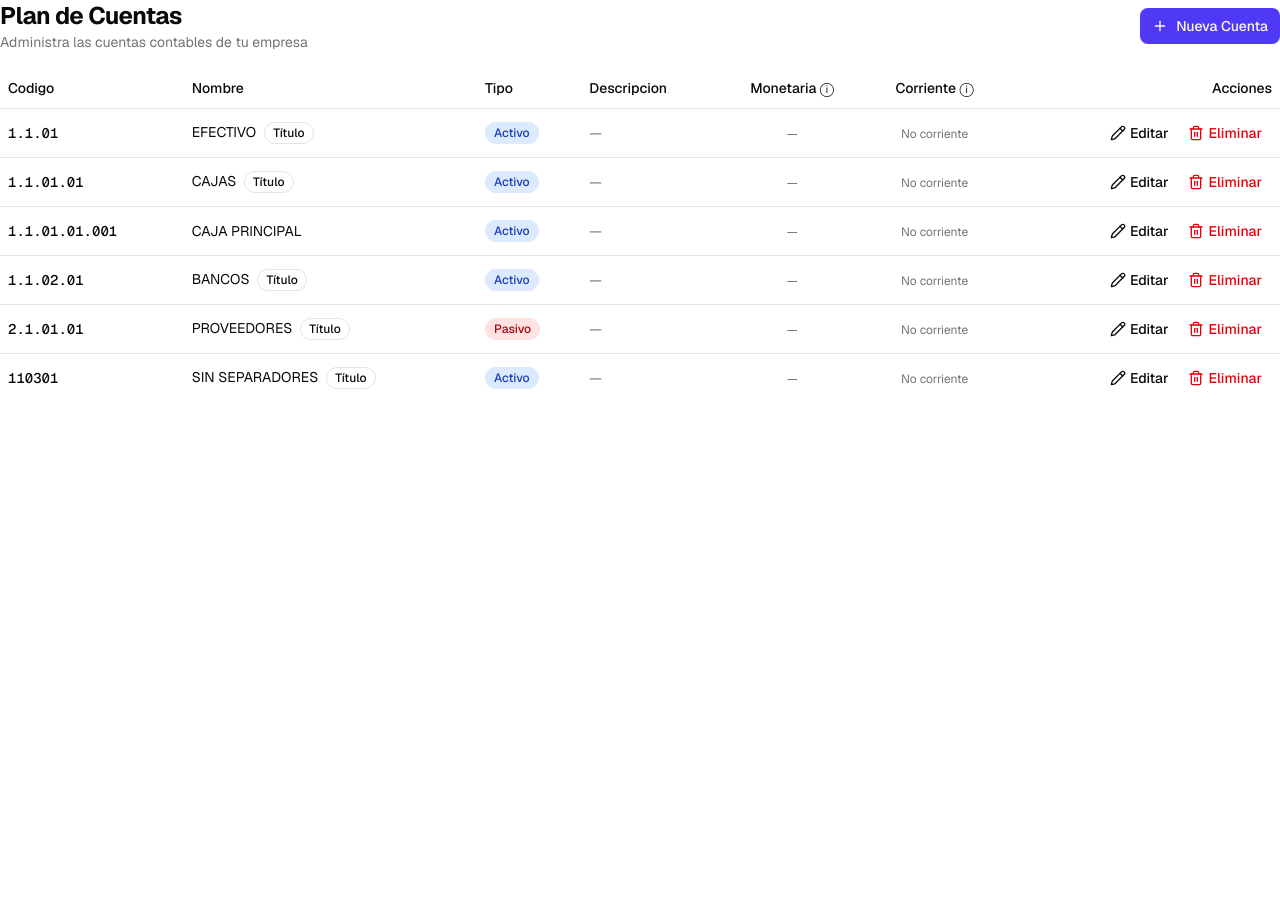
it: AccountsTable — Nueva cuenta con título padre (SPEC-008 CA-UI) › (a) ofrece solo los títulos de 6 dígitos del tipo elegido, ordenados y como «código — nombre»
The width and height of the screenshot is (1280, 900).
Click the button "Nueva Cuenta" at (1210, 26), box [1140, 8, 1279, 44]
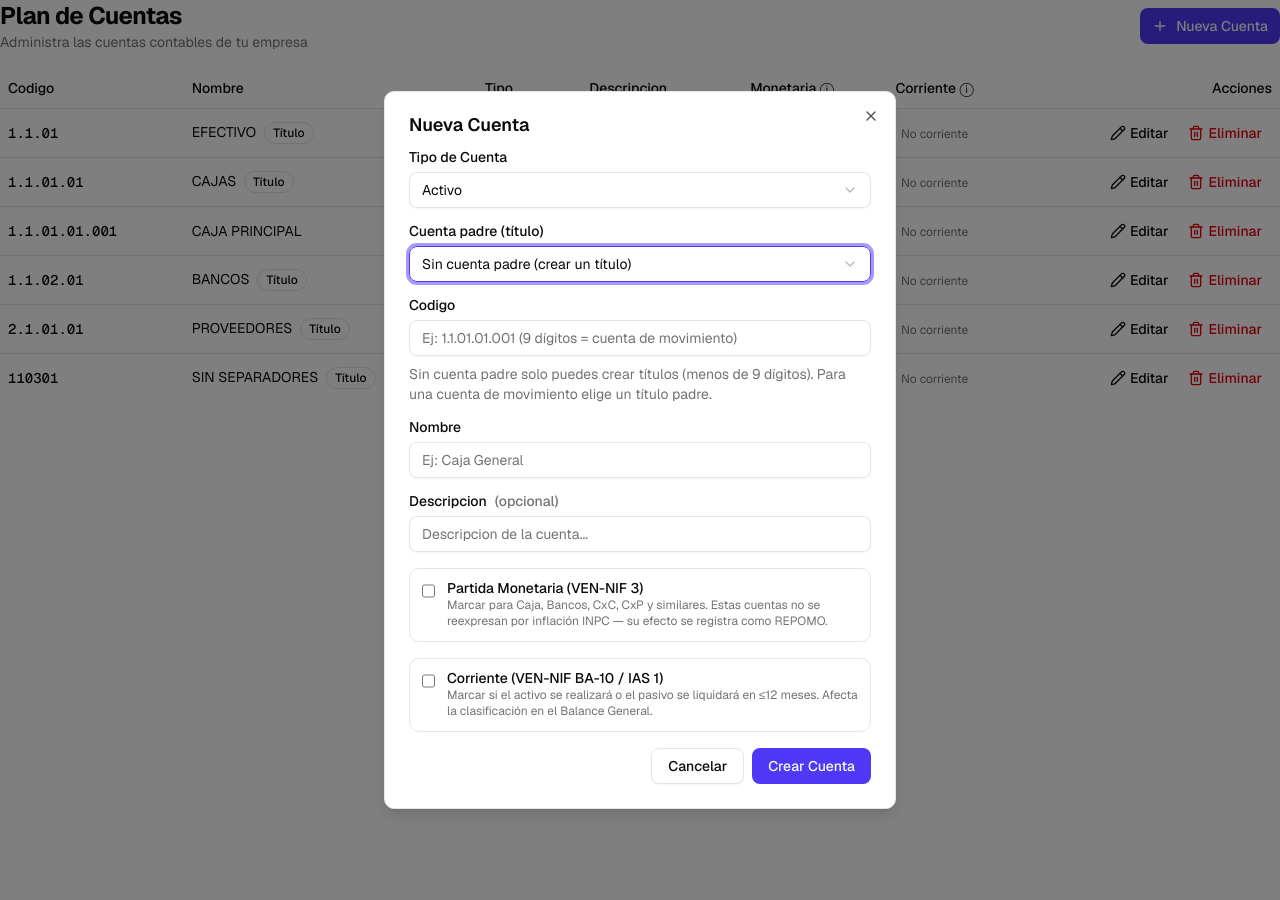
expect the dialog is shown: met, box [384, 91, 896, 809]
Press Enter in the dropdown named "Cuenta padre (título)", box [409, 246, 871, 282]
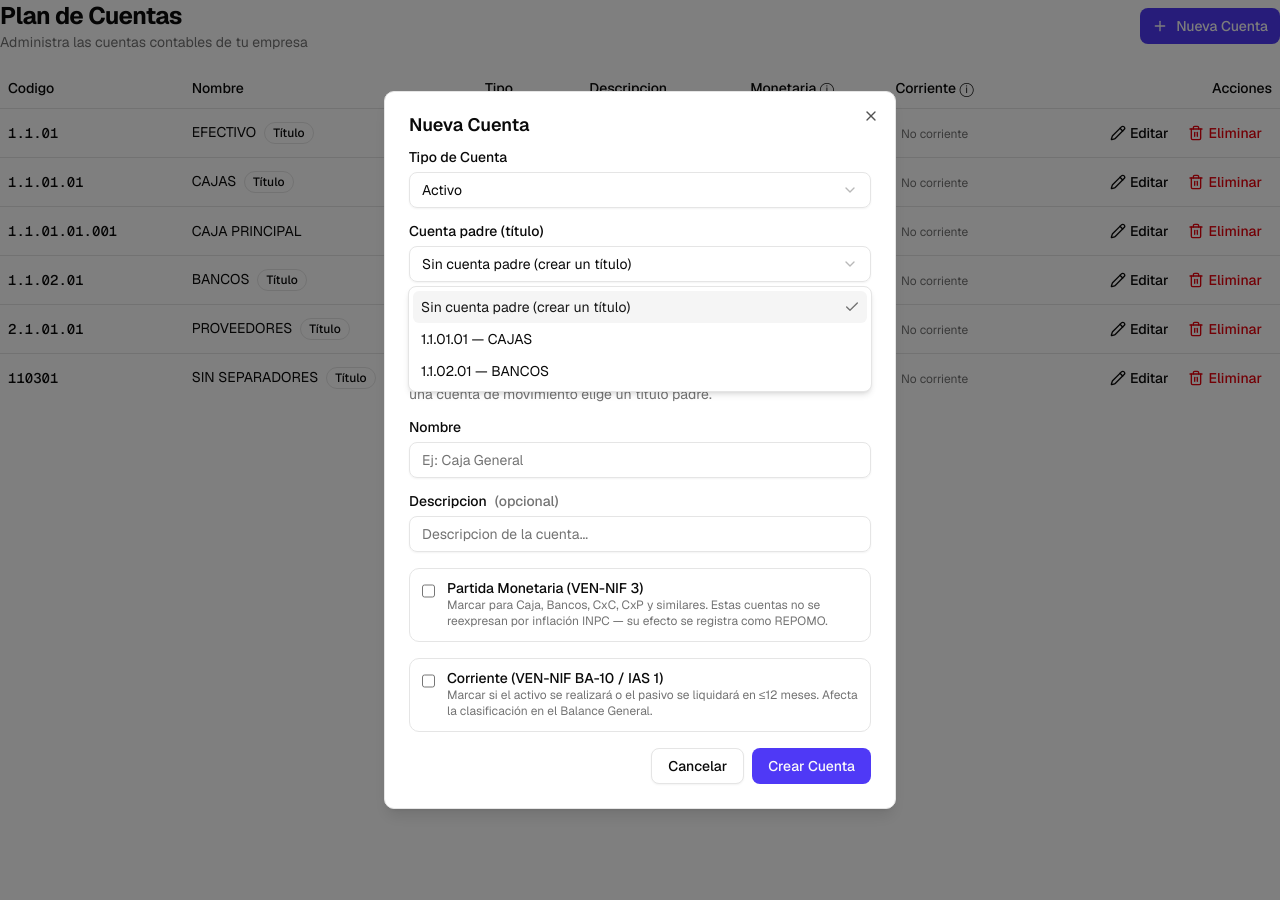
expect the list is shown: met, box [408, 286, 872, 392]
expect the options read "Sin cuenta padre (crear un título)", "1.1.01.01 — CAJAS", "1.1.02.01 — BANCOS", in this order: met, box [413, 291, 867, 323]; [421, 330, 532, 348]; [421, 362, 549, 380]
